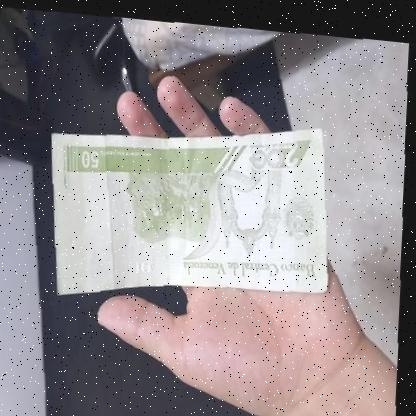dollar_back: (46, 98, 338, 316)
